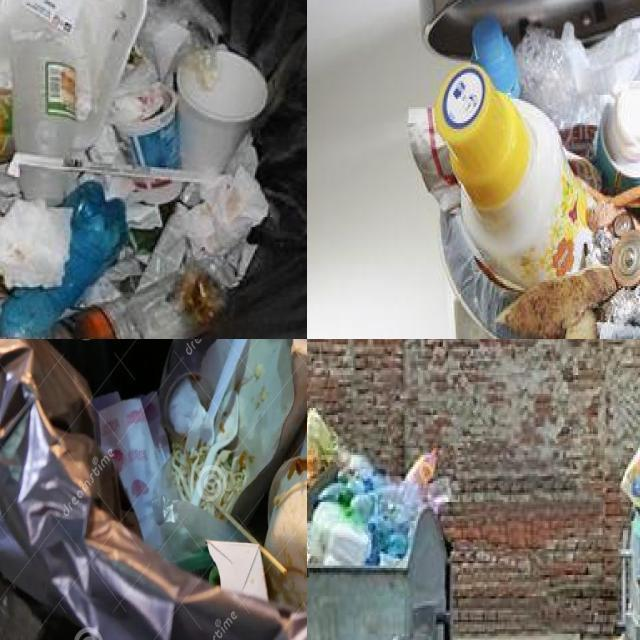Disposable: (186, 339, 248, 506), (160, 339, 217, 432)
Garbage: (408, 19, 640, 339), (86, 339, 307, 612), (307, 410, 450, 567)
Metal: (599, 284, 640, 326), (611, 231, 640, 288)
Plastic_Bag: (515, 19, 640, 132), (155, 496, 238, 570)
Plastic_Container: (435, 65, 591, 289), (596, 86, 640, 194), (473, 18, 519, 96), (19, 165, 73, 203)
Plastic_bottle: (0, 181, 127, 339), (41, 264, 225, 339), (320, 455, 423, 565)
